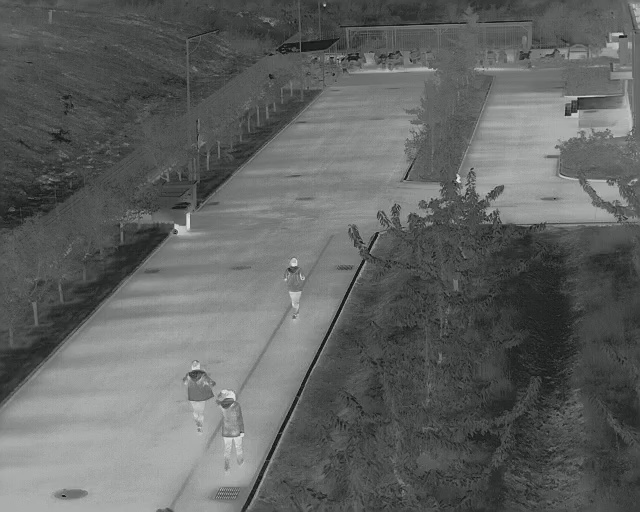person: (217, 385, 245, 470), (183, 357, 214, 433), (279, 253, 308, 319)
